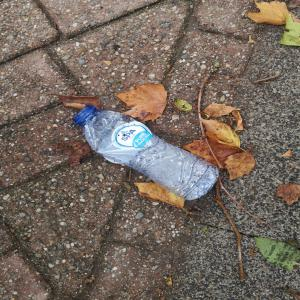Plastic-bottle: (67, 102, 226, 206)
